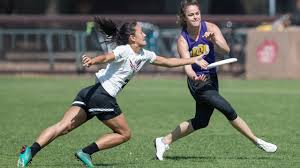disc: (207, 57, 238, 68)
